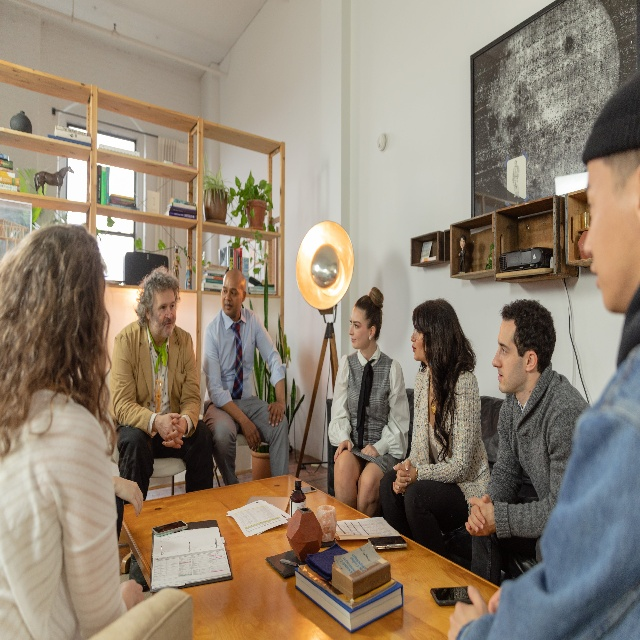Gafas: (412, 325, 419, 339)
Sin_guantes: (446, 584, 488, 640), (465, 497, 496, 537), (115, 475, 143, 517), (157, 410, 186, 449), (467, 492, 493, 533), (162, 416, 185, 450), (120, 578, 145, 609), (391, 462, 415, 494), (242, 417, 262, 452), (393, 458, 413, 493), (267, 401, 286, 428), (334, 440, 352, 461), (360, 444, 379, 457)
